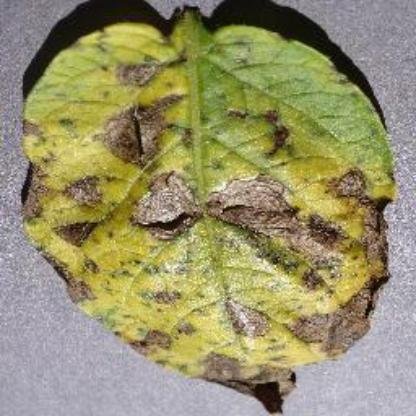Early-Blight: (19, 0, 416, 414)
